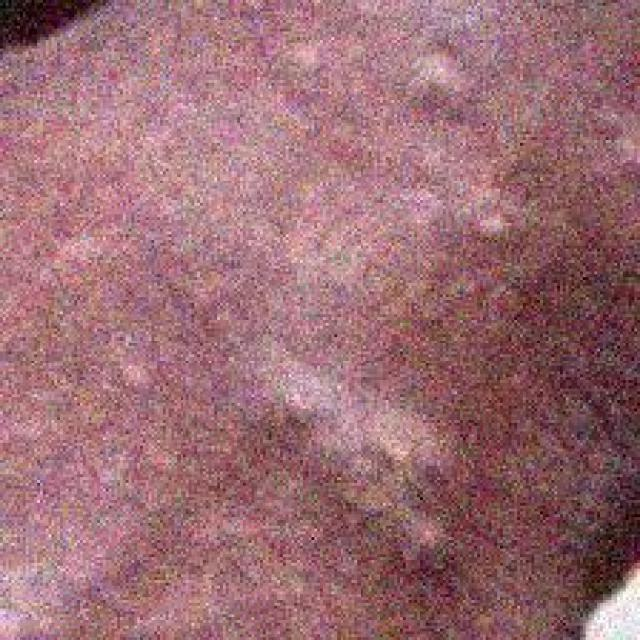monkeypox: (0, 19, 626, 640)
